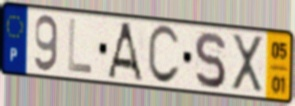9: (33, 12, 60, 73)
A: (105, 20, 145, 84)
C: (146, 23, 182, 87)
L: (66, 16, 94, 76)
S: (192, 30, 227, 91)
X: (230, 32, 265, 94)
